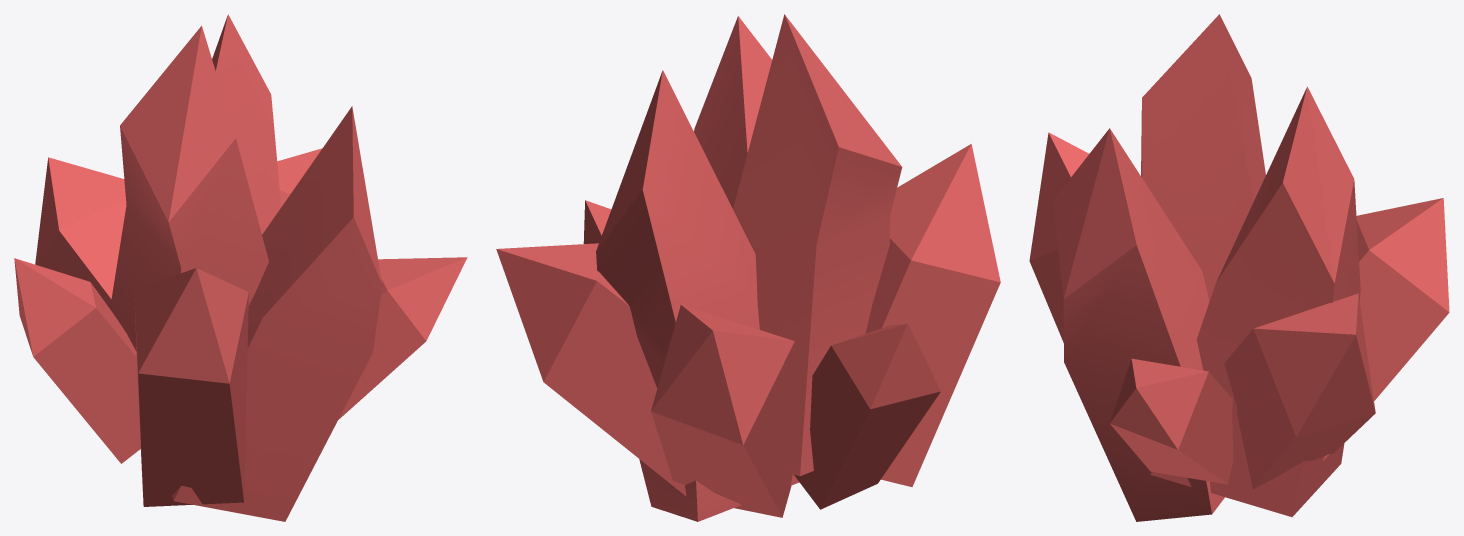
File: LampCrystal.fbx
The picture shows the model from 3 angles, left to right: view 1: azimuth 30°, elevation 25°; view 2: azimuth 150°, elevation 25°; view 3: azimuth 270°, elevation 25°; orthographic projection. The views are drawn at different scales.
Visible parts, largest first — view 1: polySurface497; view 2: polySurface497; view 3: polySurface497.
Boxes of the visible parts, x1=… form: polySurface497: x1=14, y1=14, x2=467, y2=521; polySurface497: x1=496, y1=14, x2=1000, y2=521; polySurface497: x1=1029, y1=14, x2=1449, y2=521.
Size of the model in its own units: 1.04 by 1.25 by 0.9757.
